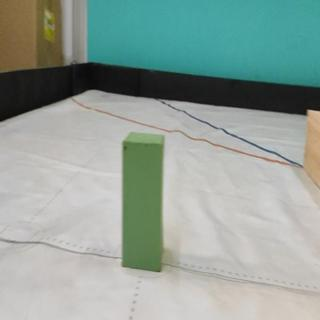greenbox: (120, 132, 165, 271)
